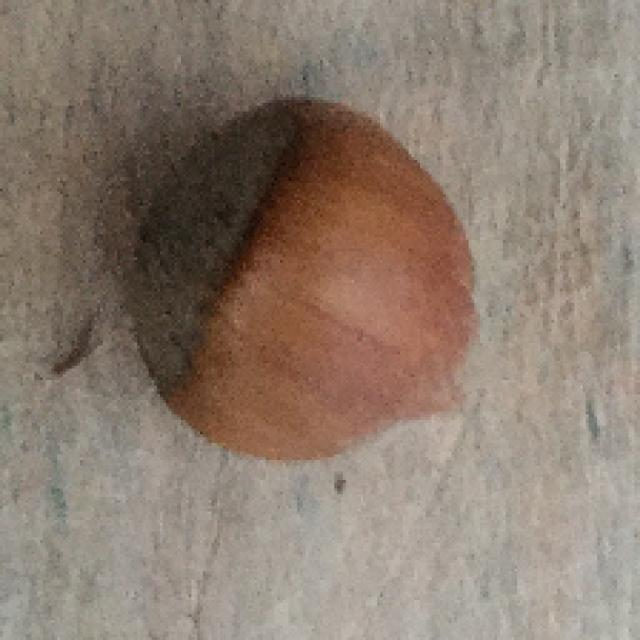qualityHazelnut: (125, 93, 493, 469)
